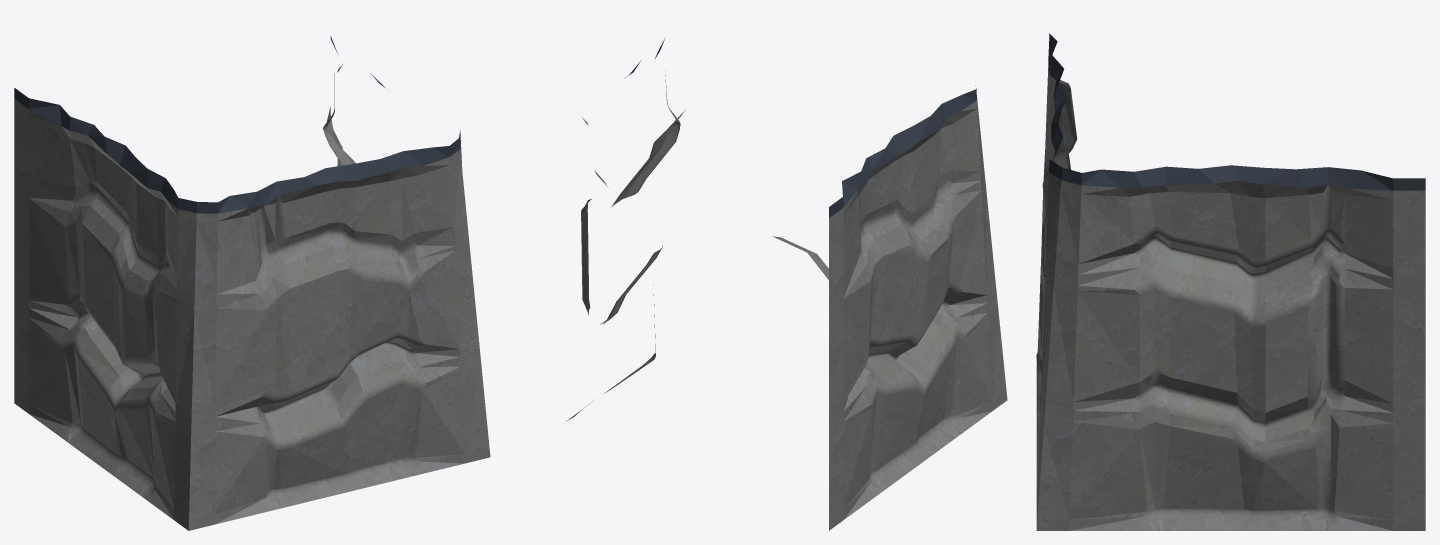
File: cliff_wall_end_b.glb
The picture shows the model from 3 angles, left to right: view 1: azimuth 30°, elevation 25°; view 2: azimuth 150°, elevation 25°; view 3: azimuth 270°, elevation 25°; orthographic projection. The views are drawn at different scales.
Visible parts, largest first — view 1: CliffWall_end_b_Body.001; view 2: CliffWall_end_b_Body.001; view 3: CliffWall_end_b_Body.001.
Part boxes in pixels (x1,y1,x2,y2): CliffWall_end_b_Body.001: (14,36,490,530); CliffWall_end_b_Body.001: (566,39,1007,530); CliffWall_end_b_Body.001: (1036,33,1425,530).
Bounding box in the file's own units: 1 × 1 × 1.
7 materials, 3 textured.
